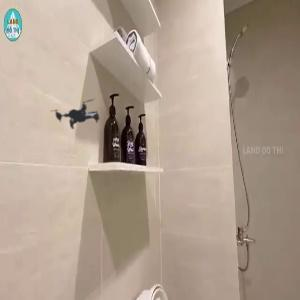drone: (37, 77, 124, 164)
